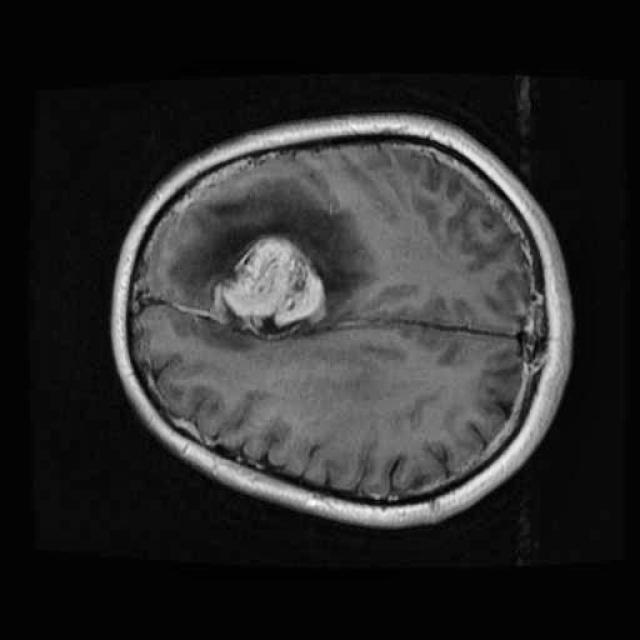Tumor: (205, 229, 335, 335)
